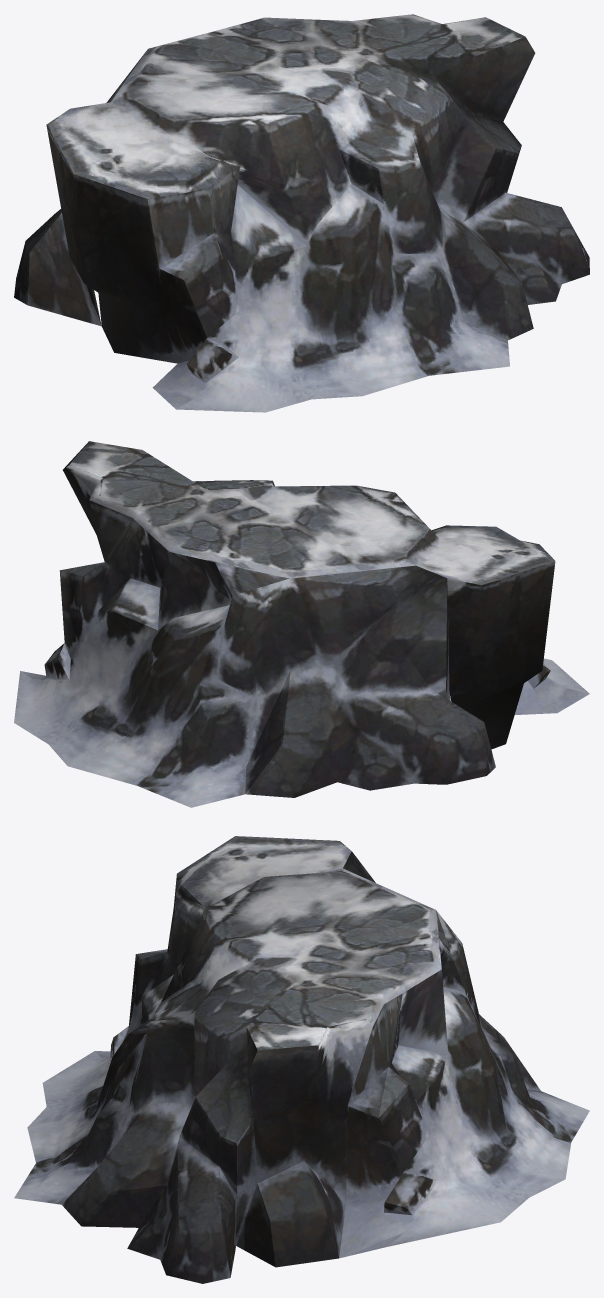
The model's file is 2005_Item_shitou_2.FBX.
3 renders of one model, top to bottom at view 1: azimuth 30°, elevation 25°; view 2: azimuth 150°, elevation 25°; view 3: azimuth 270°, elevation 25°, orthographic. The views are drawn at different scales.
Parts seen in each view (by area): view 1: 2005_Item_shitou_2; view 2: 2005_Item_shitou_2; view 3: 2005_Item_shitou_2.
Boxes of the visible parts, x1,y1,x2,y2 form: 2005_Item_shitou_2: (14, 14, 589, 412); 2005_Item_shitou_2: (14, 441, 589, 807); 2005_Item_shitou_2: (14, 836, 589, 1283).
Size of the model in its own units: 743 by 298 by 724.
